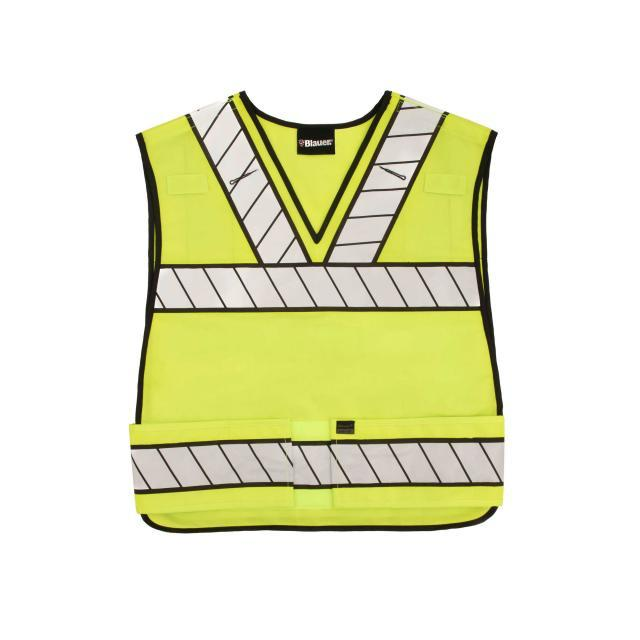reflective_jacket: (87, 82, 530, 549)
